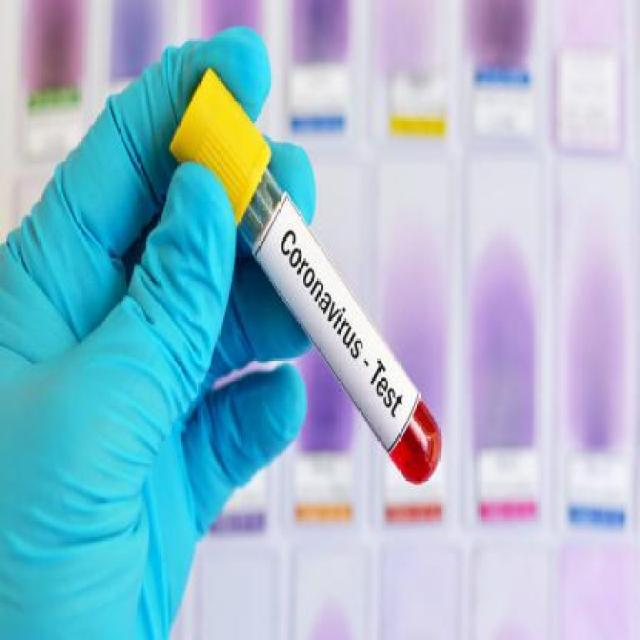Experimental-tube: (170, 67, 444, 484)
